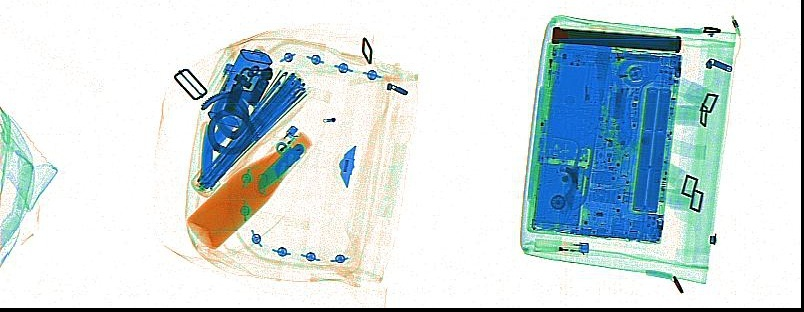handcuffs: (199, 64, 274, 156)
knife: (542, 36, 612, 211), (253, 141, 307, 198), (593, 37, 613, 105), (198, 118, 214, 184), (615, 94, 633, 150)
lighter: (258, 123, 302, 168), (532, 238, 590, 257), (211, 61, 239, 100)
zippooil: (205, 48, 273, 130)
